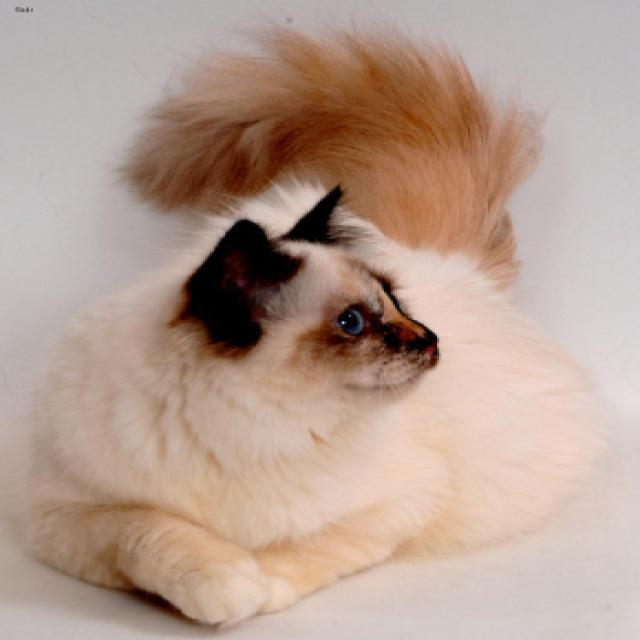Birman: (141, 179, 465, 437)
